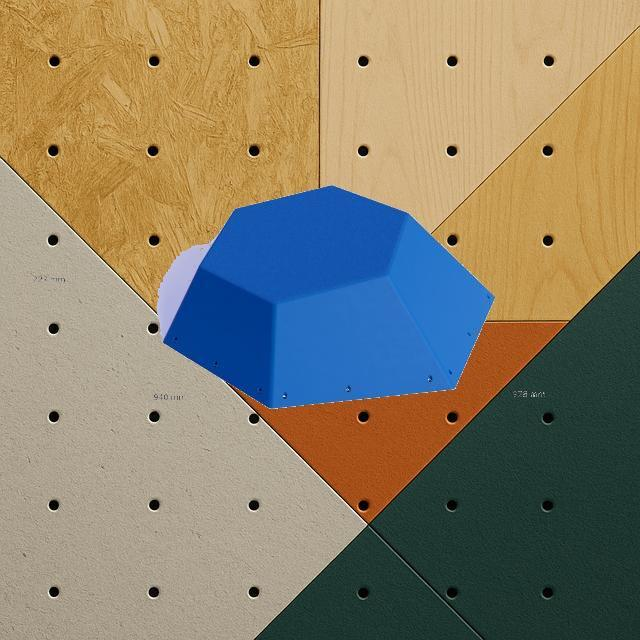Volume: (162, 184, 496, 408)
